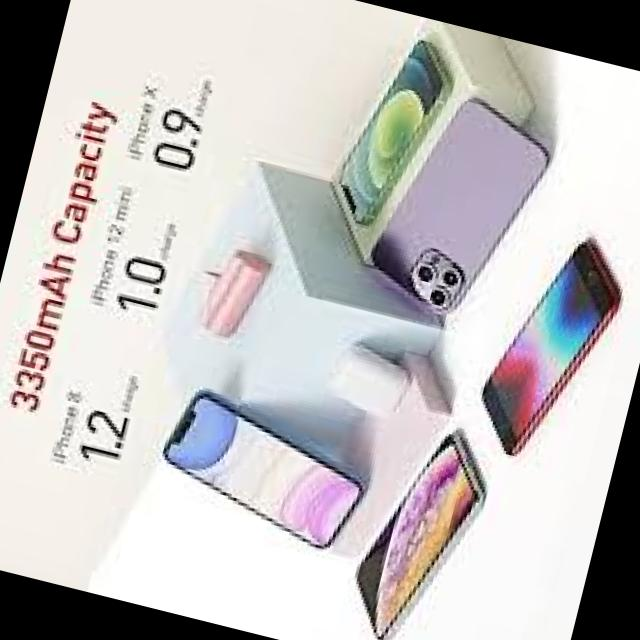power_bank: (184, 240, 274, 345)
